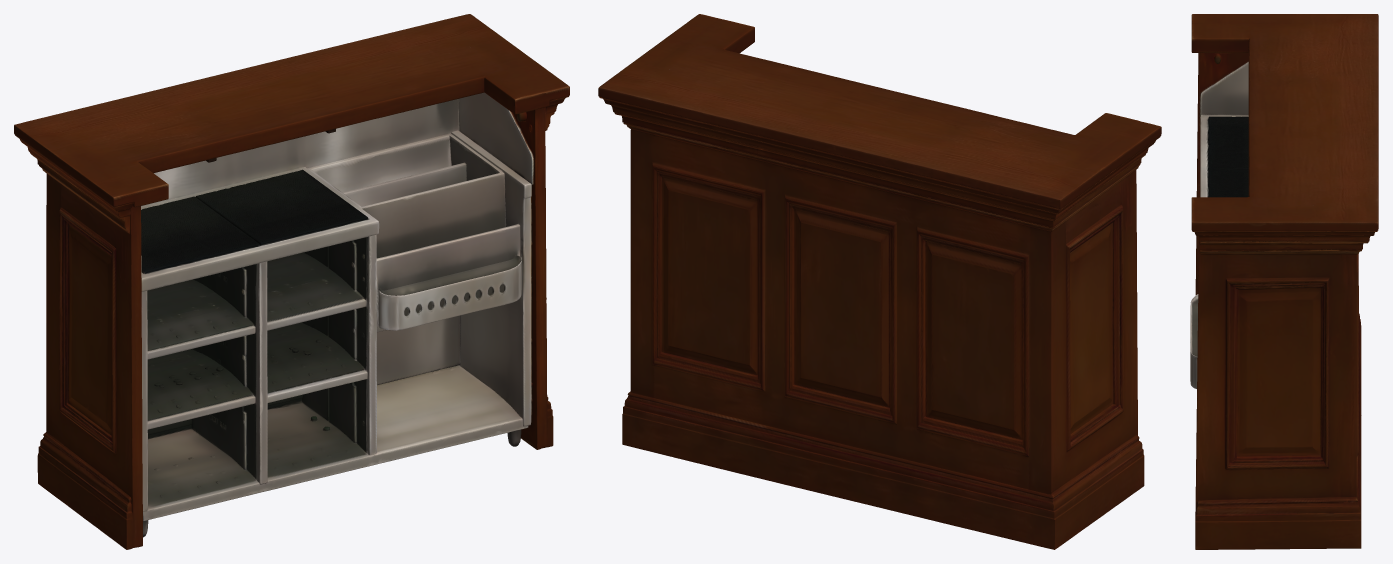
3 renders of one model, left to right at view 1: azimuth 30°, elevation 25°; view 2: azimuth 150°, elevation 25°; view 3: azimuth 270°, elevation 25°, orthographic. The views are drawn at different scales.
Visible parts, largest first — view 1: model; view 2: model; view 3: model.
Part boxes in pixels (bbox=[...]): model: bbox=[14, 14, 569, 549]; model: bbox=[598, 14, 1161, 549]; model: bbox=[1190, 14, 1378, 549].
Size of the model in its own units: 1.6 by 1.21 by 0.61.
Materials: 1 (1 with a texture image).
